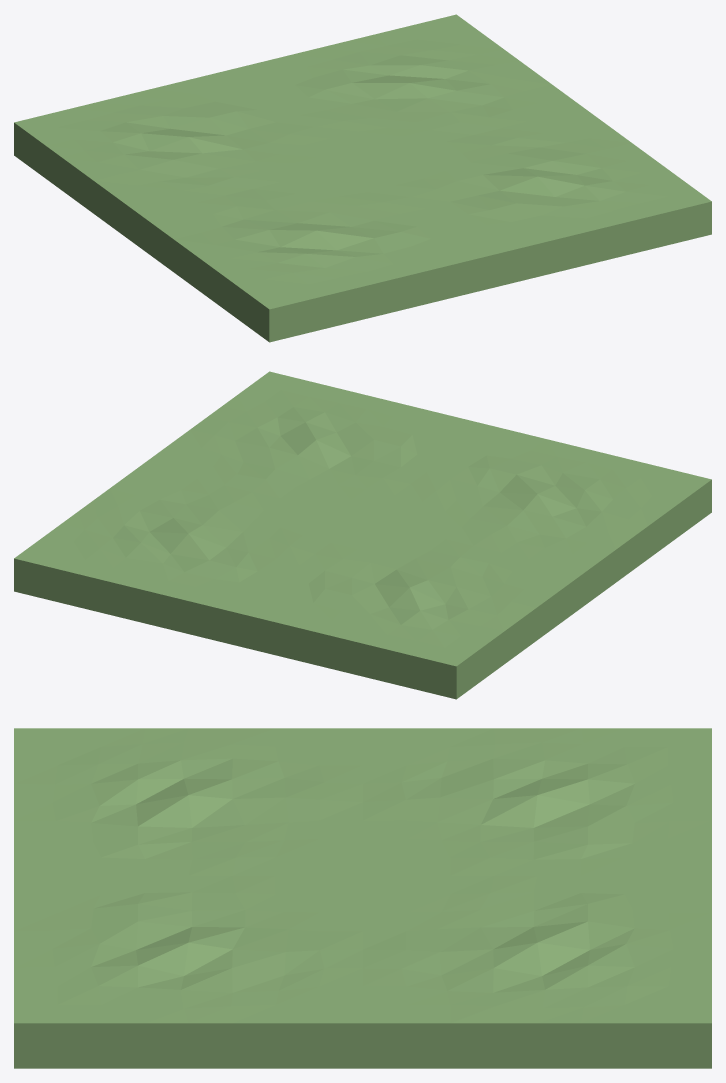
Rendered from Floor_000.fbx.
3 renders of one model, top to bottom at view 1: azimuth 30°, elevation 25°; view 2: azimuth 150°, elevation 25°; view 3: azimuth 270°, elevation 25°, orthographic. The views are drawn at different scales.
Visible parts, largest first — view 1: Floor; view 2: Floor; view 3: Floor.
Boxes of the visible parts, <box> form: Floor: <box>14,14,711,342</box>; Floor: <box>14,371,711,699</box>; Floor: <box>14,728,711,1068</box>.
Bounding box in the file's own units: 2787 × 230 × 2787.
